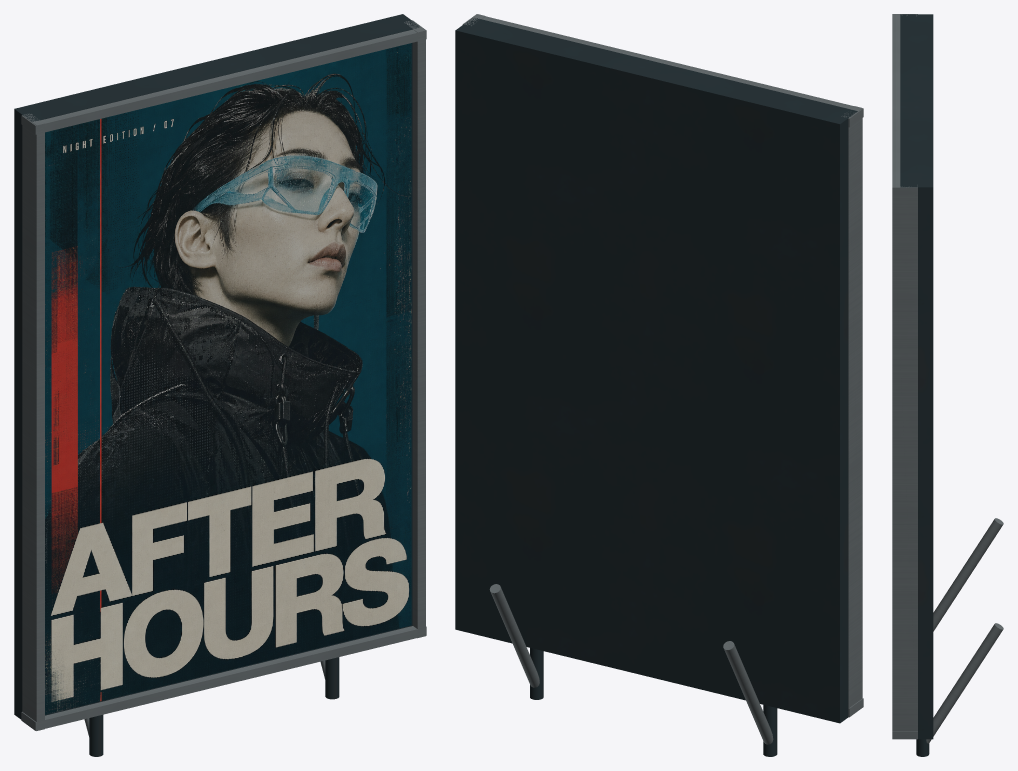
Rendered from NC_Sign_portrait_LOD1.fbx.
3 views of the same model, side by side, from view 1: azimuth 30°, elevation 25°; view 2: azimuth 150°, elevation 25°; view 3: azimuth 270°, elevation 25° (orthographic). The views are drawn at different scales.
Visible parts, largest first — view 1: NC_Sign_portrait_LOD1; view 2: NC_Sign_portrait_LOD1; view 3: NC_Sign_portrait_LOD1.
Boxes of the visible parts, x1,y1,x2,y2 form: NC_Sign_portrait_LOD1: (14, 14, 426, 756); NC_Sign_portrait_LOD1: (455, 14, 863, 756); NC_Sign_portrait_LOD1: (892, 14, 1003, 756).
Size of the model in its own units: 350 by 564 by 94.87.
